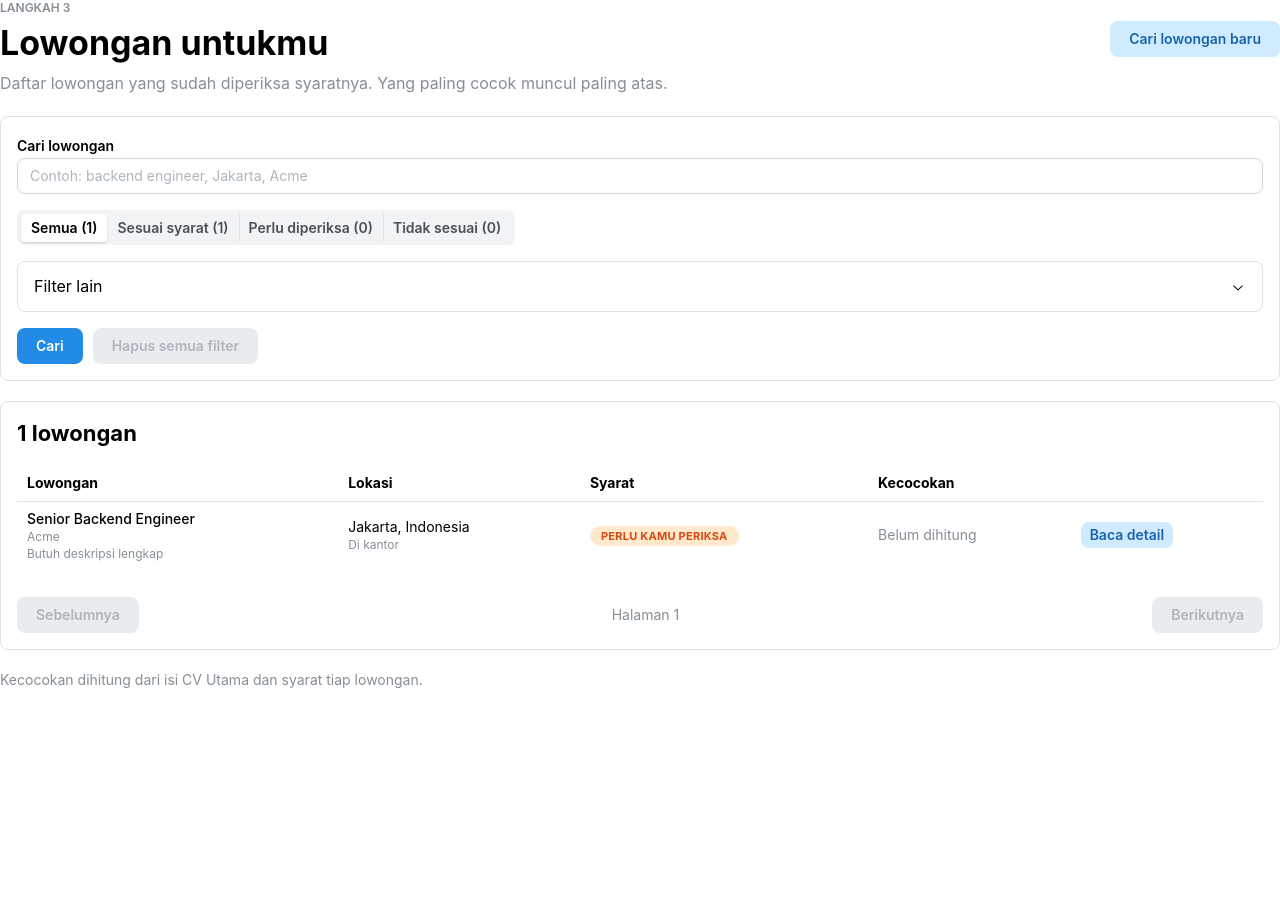
Scenario: MatchesPage › says a snippet-only job needs the full description, and shows no fit
Expected: the text "Butuh deskripsi lengkap" is shown, x1=27 y1=546 x2=163 y2=561
Click the text "Senior Backend Engineer". click: click(111, 518)
box: x1=27 y1=510 x2=195 y2=526
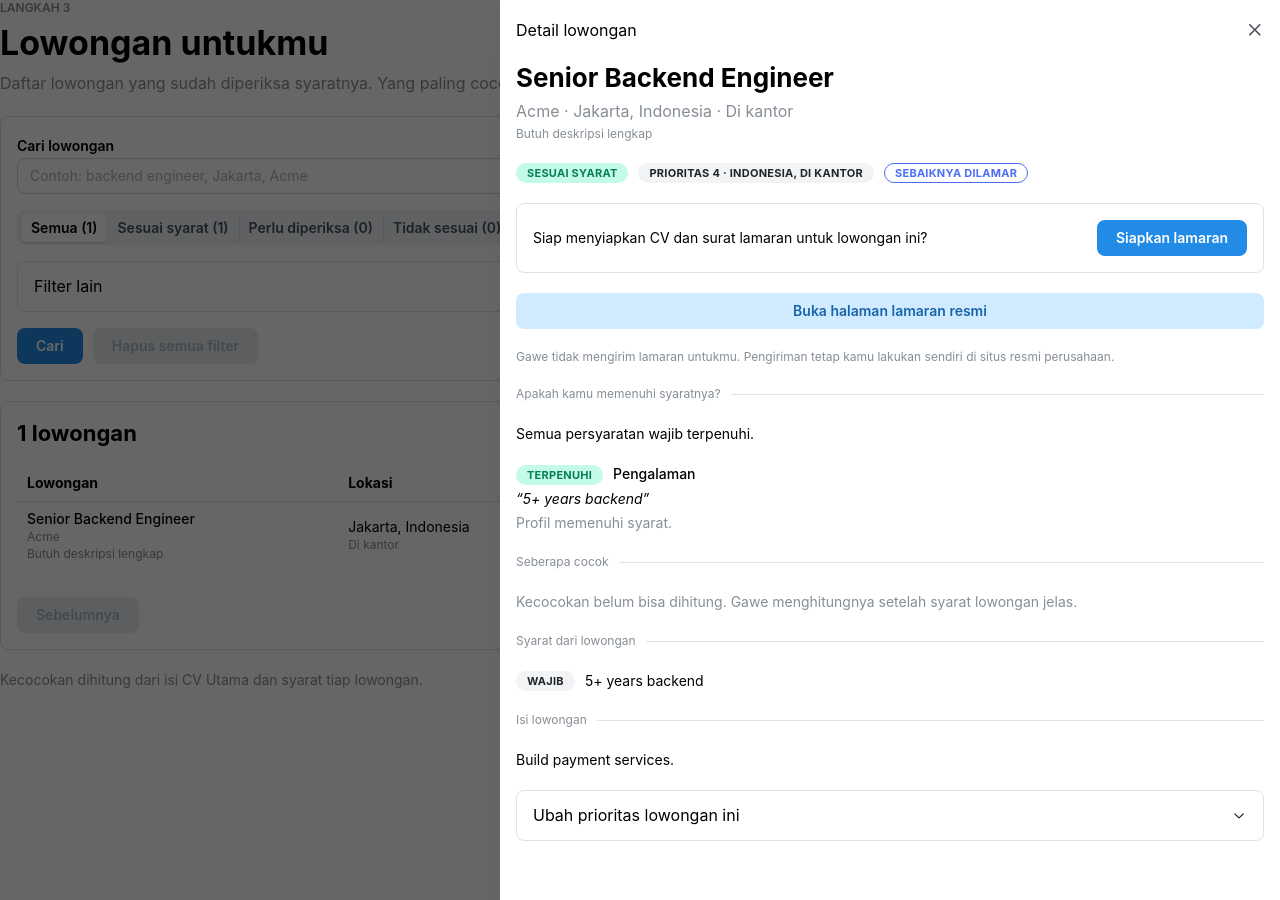
Now the text "Butuh deskripsi lengkap" is shown, box x1=516 y1=126 x2=652 y2=141
Now the text "Kecocokan belum bisa dihitung" is shown, box x1=516 y1=593 x2=1077 y2=610
